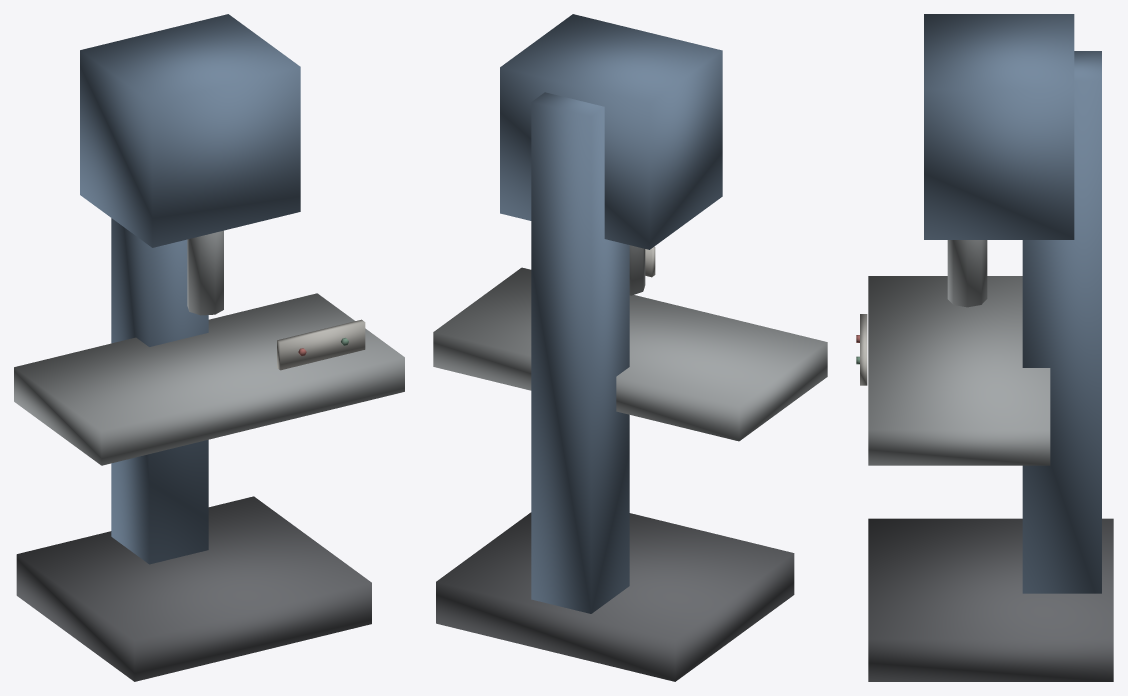
File: milling_machine_silhouette.glb
The picture shows the model from 3 angles, left to right: view 1: azimuth 30°, elevation 25°; view 2: azimuth 150°, elevation 25°; view 3: azimuth 270°, elevation 25°; orthographic projection. The views are drawn at different scales.
Parts seen in each view (by area): view 1: world; view 2: world; view 3: world.
Boxes of the visible parts, x1,y1,x2,y2 form: world: (14,14,404,681); world: (433,14,827,681); world: (856,14,1113,681).
Bounding box in the file's own units: 0.92 × 1.59 × 0.651.
